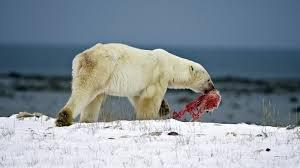bear: (57, 43, 214, 127)
